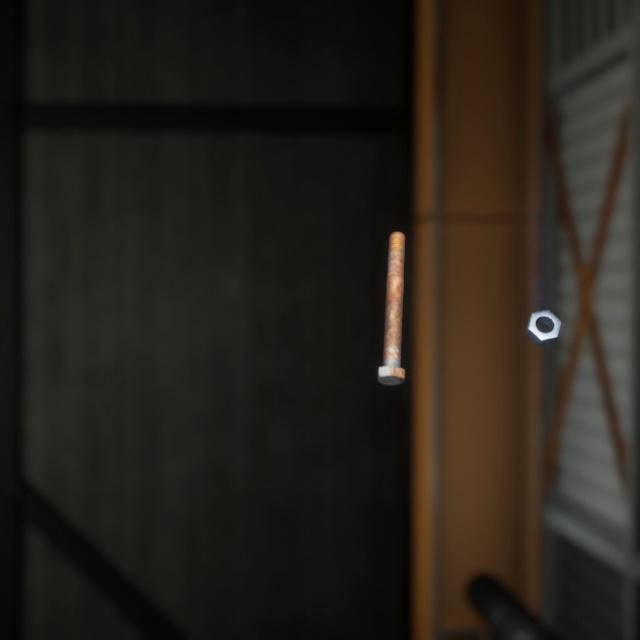bolt: (372, 211, 409, 373)
nut: (520, 287, 565, 332)
